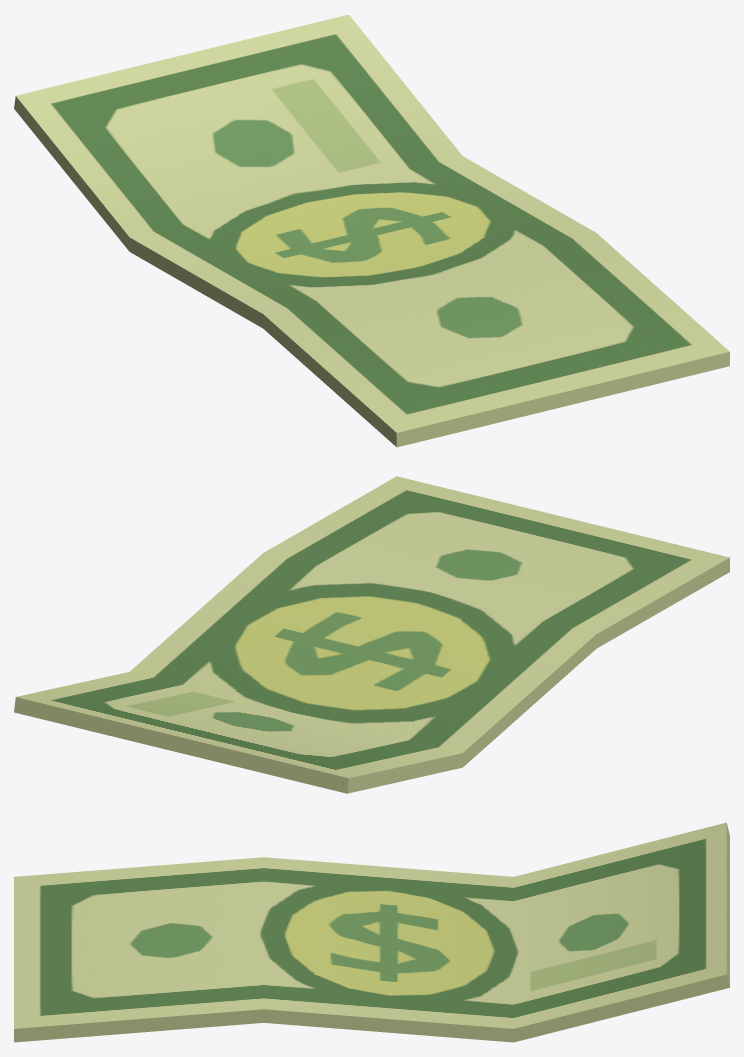
Rendered from Cash_02.fbx.
3 views of the same model, one above another, from view 1: azimuth 30°, elevation 25°; view 2: azimuth 150°, elevation 25°; view 3: azimuth 270°, elevation 25° (orthographic). The views are drawn at different scales.
Visible parts, largest first — view 1: Cash_02; view 2: Cash_02; view 3: Cash_02.
Boxes of the visible parts, bbox=[...] form: Cash_02: bbox=[14, 14, 729, 447]; Cash_02: bbox=[14, 476, 729, 793]; Cash_02: bbox=[14, 822, 729, 1042].
Bounding box in the file's own units: 12 × 2.5 × 23.88.
